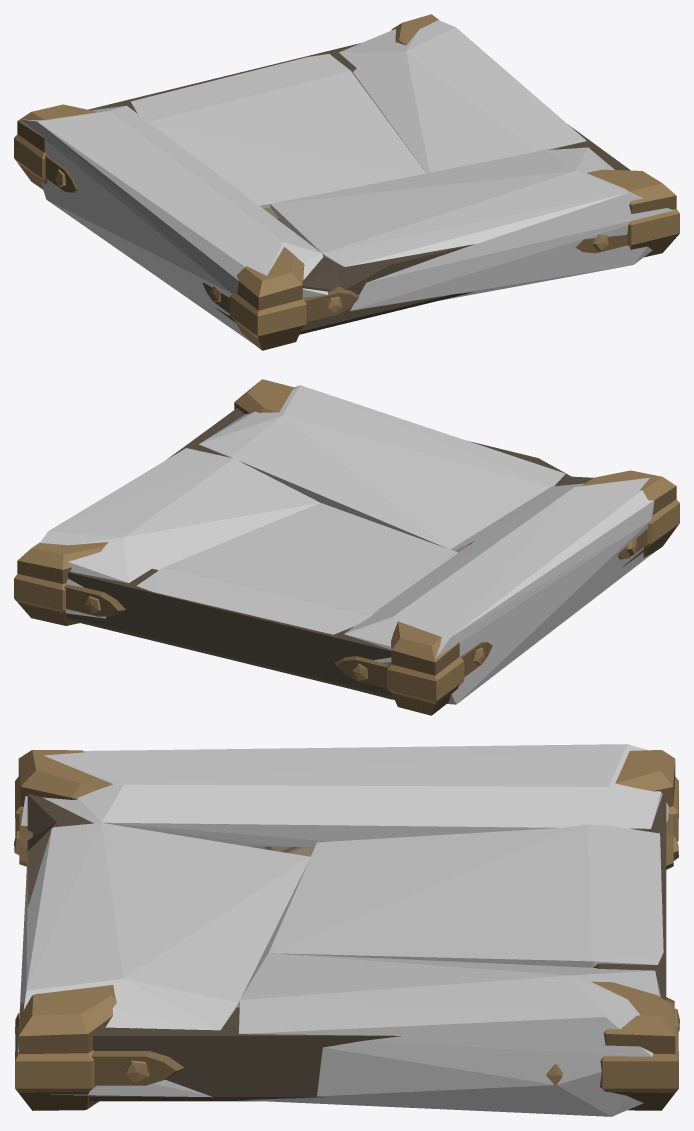
Rendered from SM_Prop_Crate01_lid.fbx.
3 renders of one model, top to bottom at view 1: azimuth 30°, elevation 25°; view 2: azimuth 150°, elevation 25°; view 3: azimuth 270°, elevation 25°, orthographic. The views are drawn at different scales.
Visible parts, largest first — view 1: SM_Prop_Crate01_lid_ConvexHulls, SM_Prop_Crate01_lid; view 2: SM_Prop_Crate01_lid_ConvexHulls, SM_Prop_Crate01_lid; view 3: SM_Prop_Crate01_lid_ConvexHulls, SM_Prop_Crate01_lid.
Part boxes in pixels (left/top/right/bottom): SM_Prop_Crate01_lid_ConvexHulls: left=21, top=20, right=674, bottom=343; SM_Prop_Crate01_lid: left=14, top=14, right=679, bottom=350; SM_Prop_Crate01_lid_ConvexHulls: left=40, top=385, right=654, bottom=704; SM_Prop_Crate01_lid: left=14, top=379, right=679, bottom=715; SM_Prop_Crate01_lid_ConvexHulls: left=17, top=744, right=668, bottom=1116; SM_Prop_Crate01_lid: left=14, top=750, right=679, bottom=1110.
Size of the model in its own units: 91.01 by 91.01 by 15.01.
Materials: 2 (1 with a texture image).
